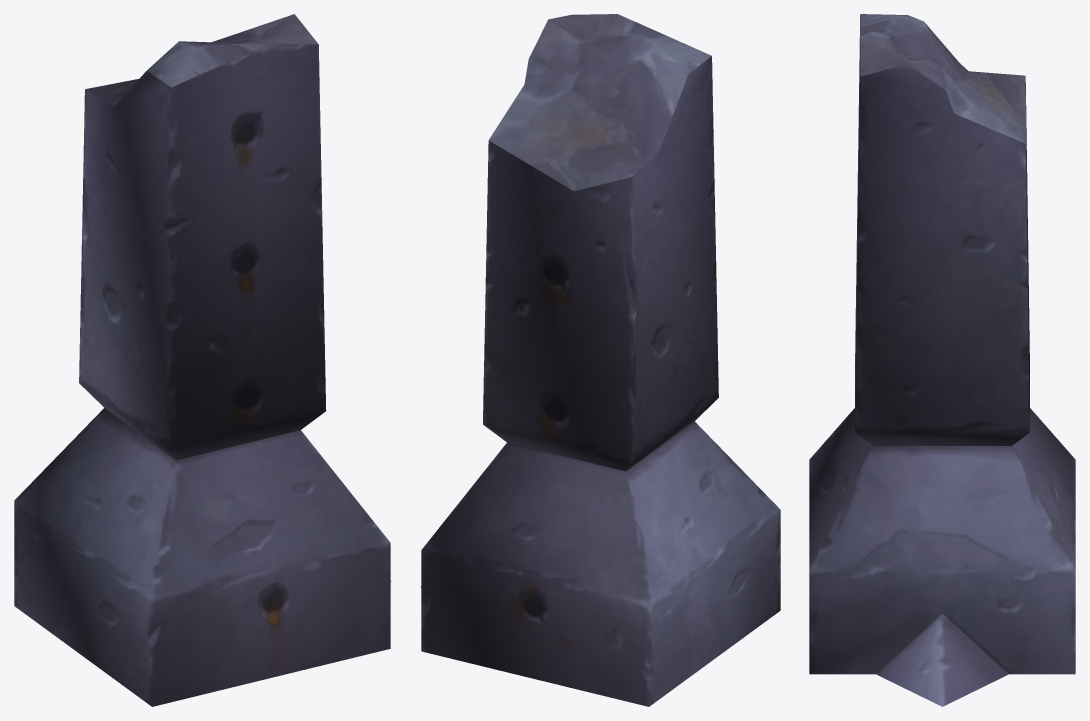
File: SleepingGarden_Pillar_03.fbx
3 views of the same model, side by side, from view 1: azimuth 30°, elevation 25°; view 2: azimuth 150°, elevation 25°; view 3: azimuth 270°, elevation 25° (orthographic). The views are drawn at different scales.
Visible parts, largest first — view 1: SleepingGarden_Pillar_03; view 2: SleepingGarden_Pillar_03; view 3: SleepingGarden_Pillar_03.
Boxes of the visible parts, x1,y1,x2,y2 form: SleepingGarden_Pillar_03: (14,14,391,706); SleepingGarden_Pillar_03: (420,14,780,706); SleepingGarden_Pillar_03: (809,14,1075,706).
Bounding box in the file's own units: 0.8269 × 1.56 × 0.64.
1 material, 1 textured.
